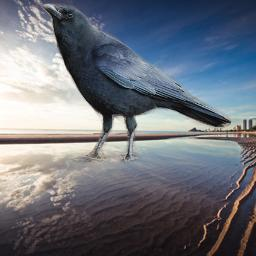Crow: (39, 3, 231, 165)
